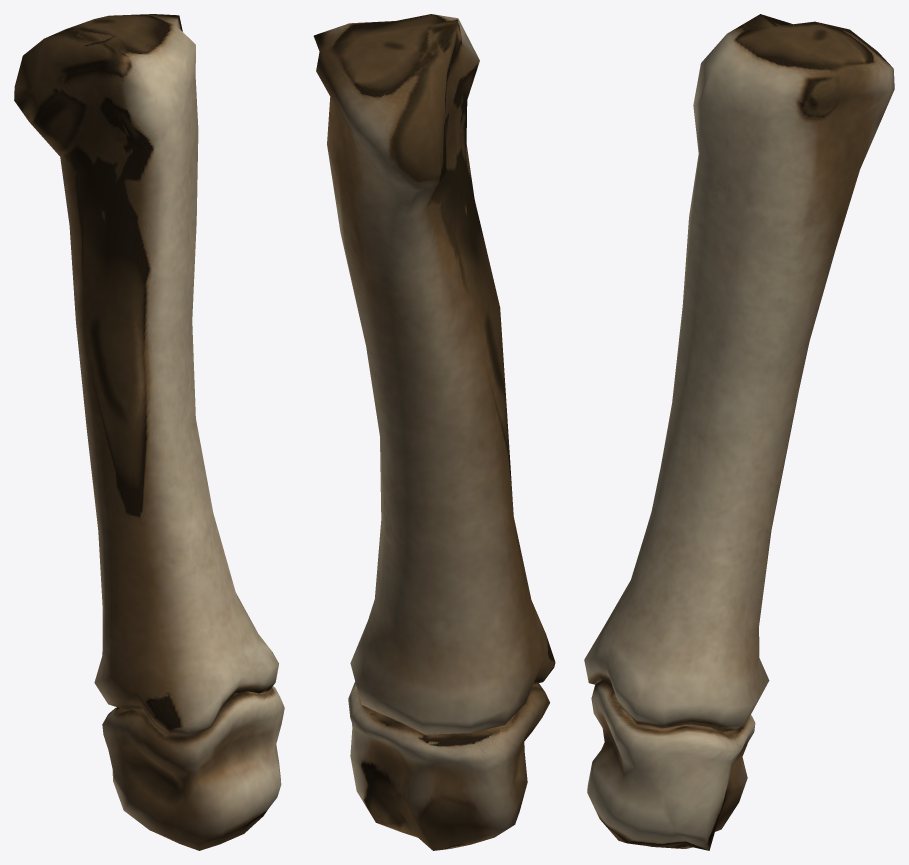
Rendered from Metacarpal_II.glb.
The picture shows the model from 3 angles, left to right: view 1: azimuth 30°, elevation 25°; view 2: azimuth 150°, elevation 25°; view 3: azimuth 270°, elevation 25°; orthographic projection. The views are drawn at different scales.
Parts seen in each view (by area): view 1: Metacarpal_II_Right1:Group43283; view 2: Metacarpal_II_Right1:Group43283; view 3: Metacarpal_II_Right1:Group43283.
Boxes of the visible parts, left/top/right/bottom form: Metacarpal_II_Right1:Group43283: left=14, top=14, right=284, bottom=850; Metacarpal_II_Right1:Group43283: left=313, top=14, right=555, bottom=850; Metacarpal_II_Right1:Group43283: left=584, top=14, right=894, bottom=850.
Size of the model in its own units: 10.73 by 48.54 by 16.95.
Materials: 1 (1 with a texture image).
